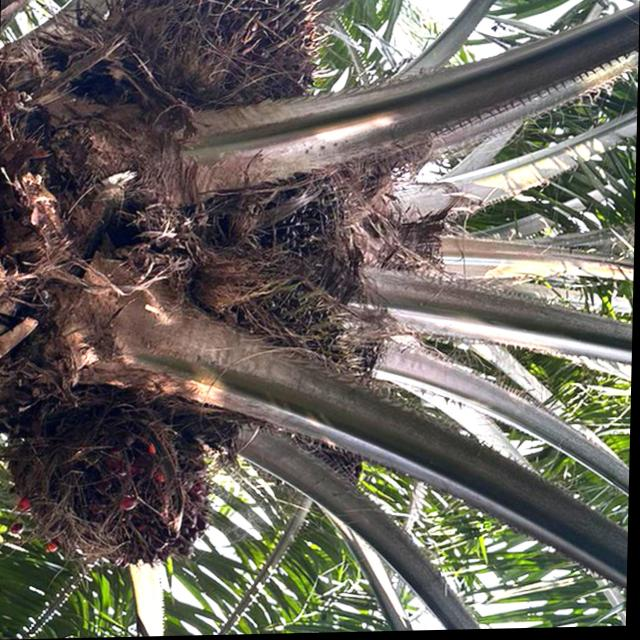unripe: (197, 271, 361, 460), (210, 114, 359, 264)
